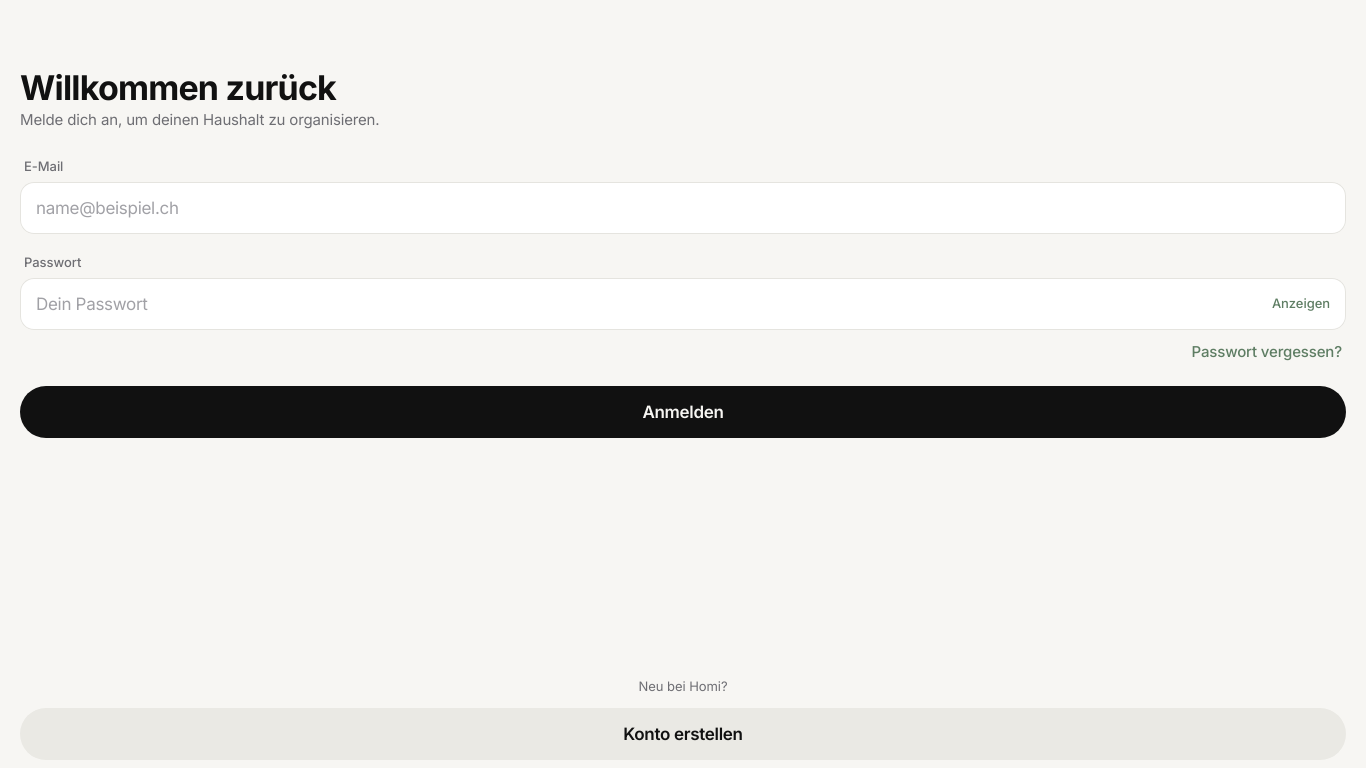
LoginForm › shows the generic error for wrong credentials and keeps the user on the page
The width and height of the screenshot is (1366, 768).
In the field labelled "E-Mail": (683, 208) [36, 182, 1330, 234], type "julia@example.ch"
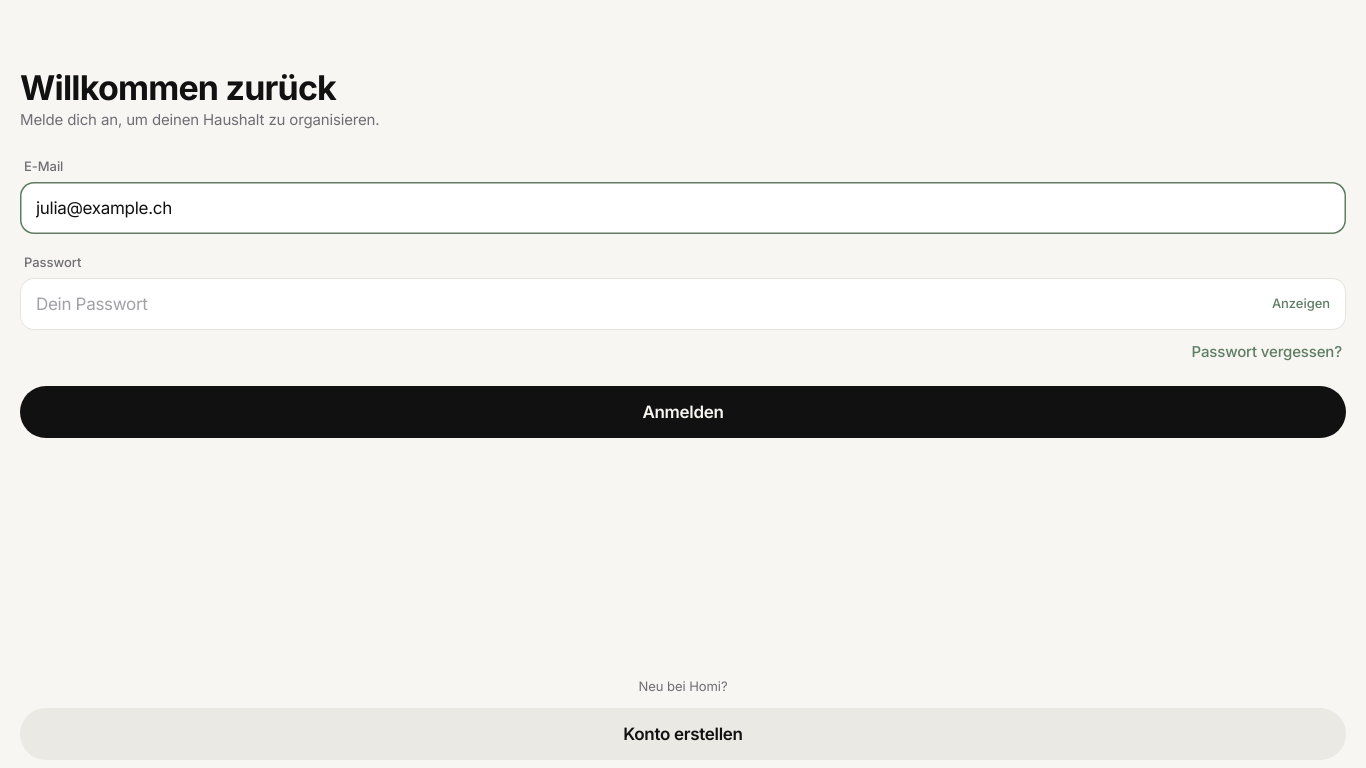
In the password field labelled "Passwort": (648, 304) [36, 278, 1260, 330], type "Falsch-12345"
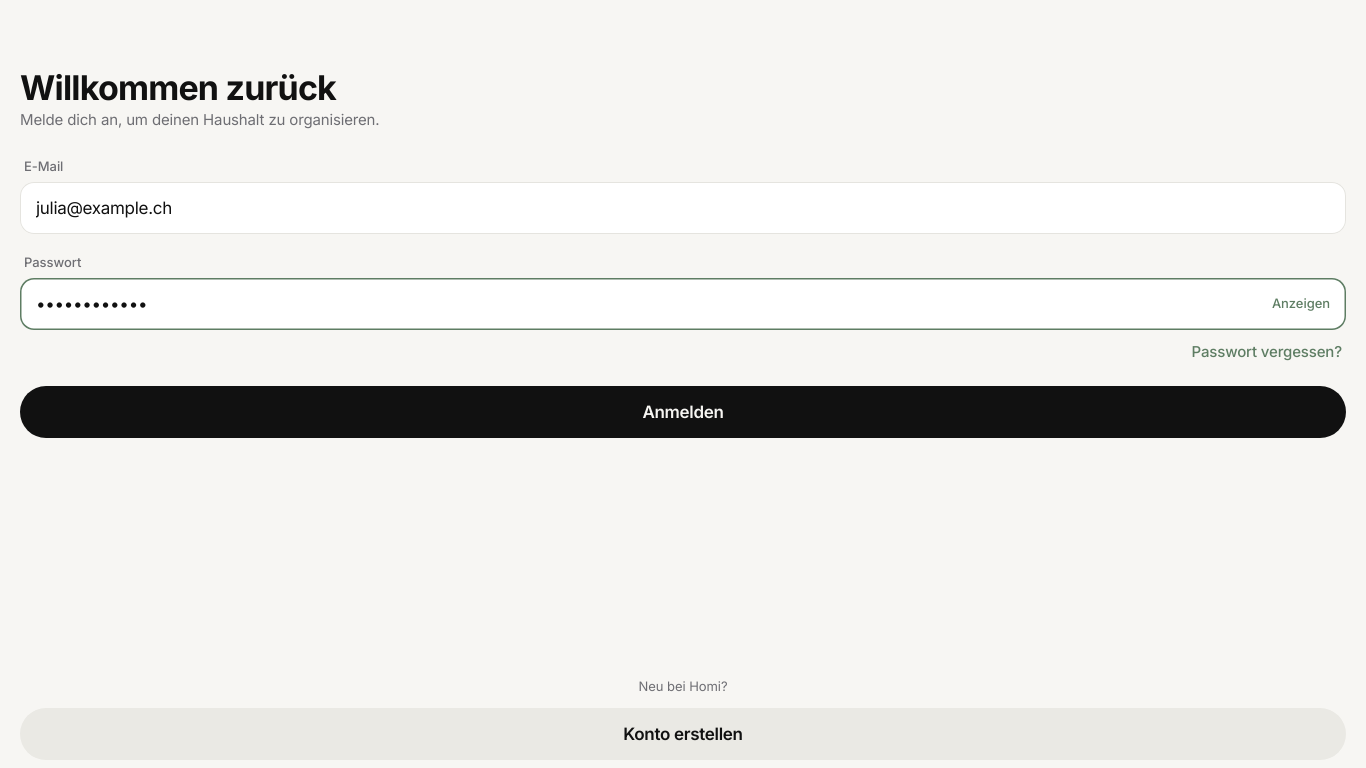
Click the button "Anmelden": (683, 412) [20, 386, 1346, 438]
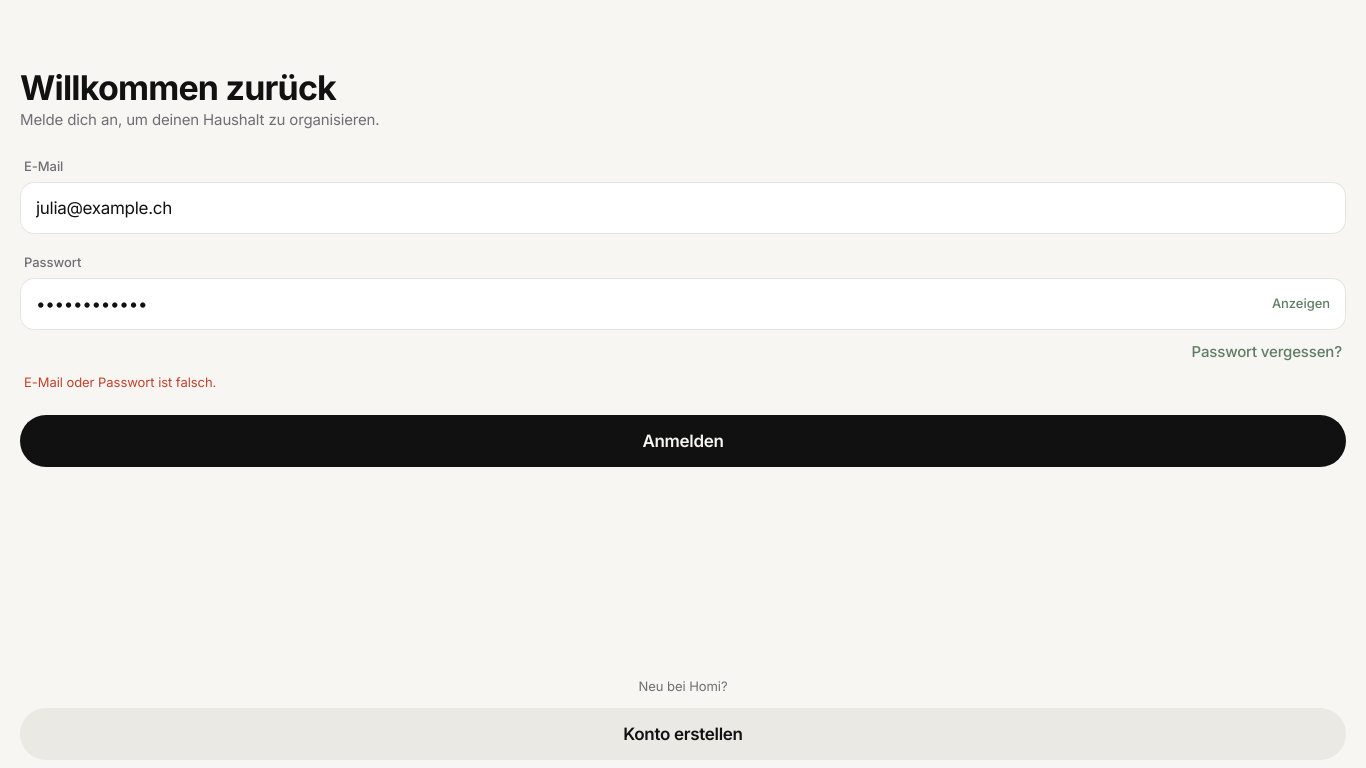
Result: the message reads "E-Mail oder Passwort ist falsch." at [24, 374, 216, 390]
In the password field labelled "Passwort": (648, 304) [36, 278, 1260, 330], type "x"
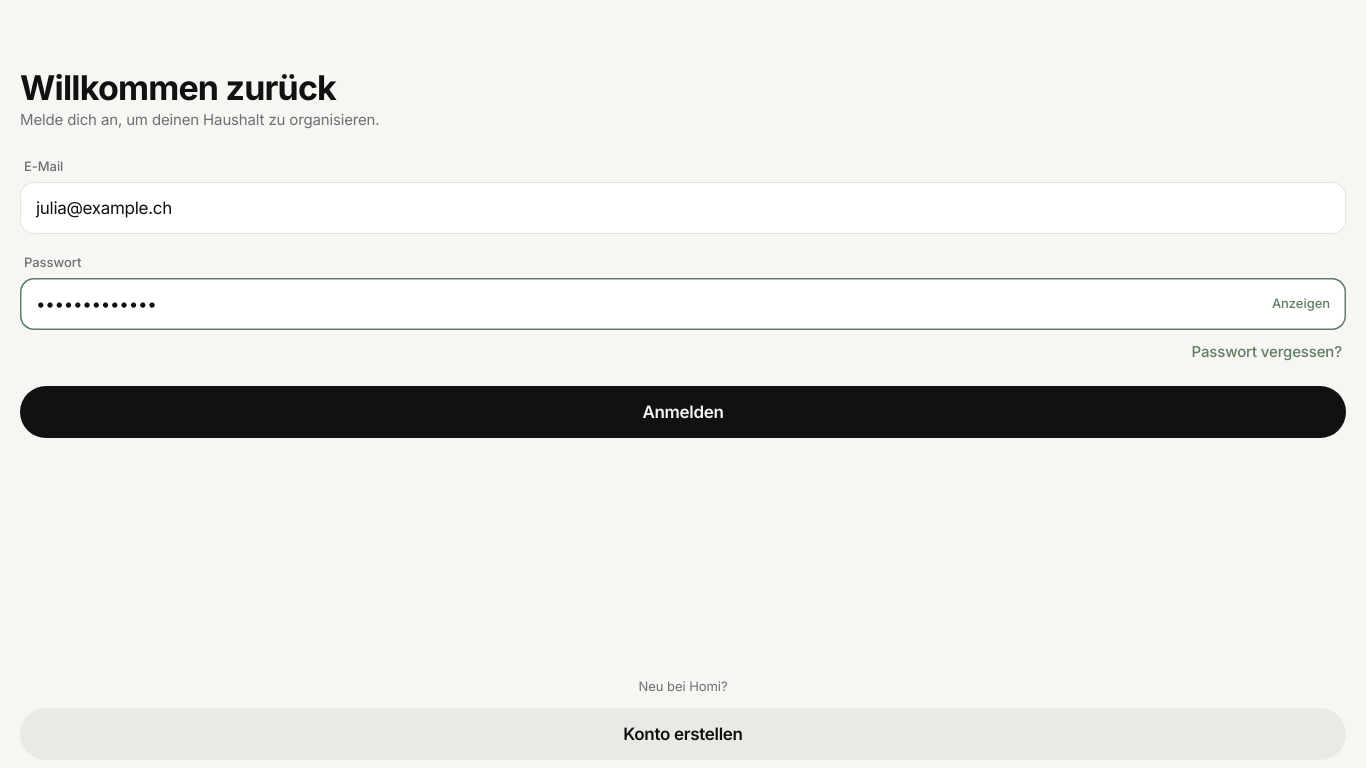
Result: the message "E-Mail oder Passwort ist falsch." is gone
